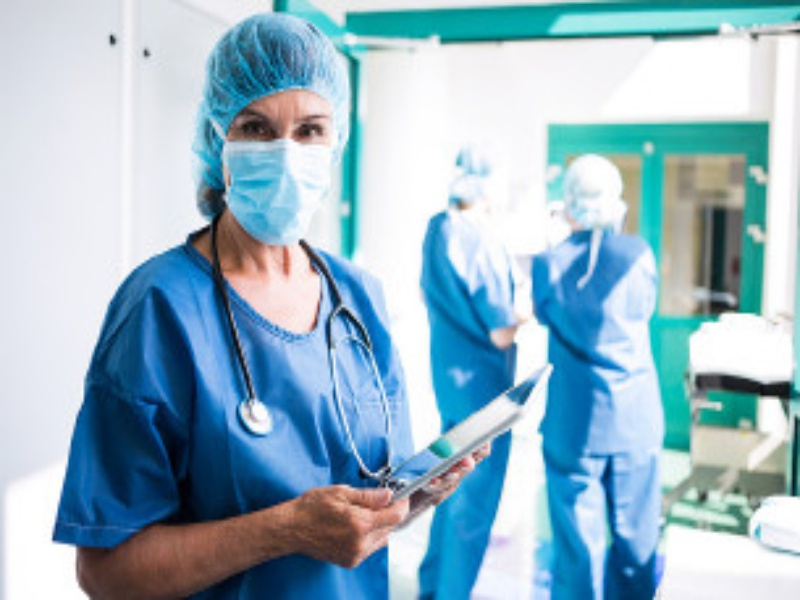mask: (196, 17, 353, 238)
